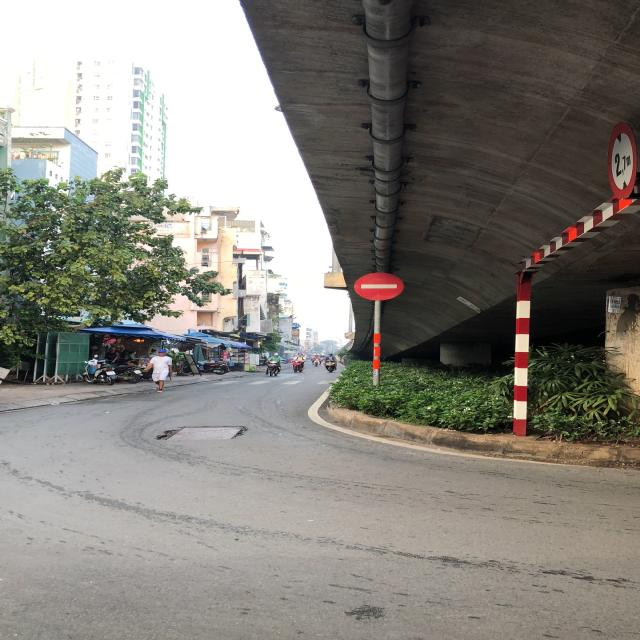Bien bao cam di nguoc chieu: (352, 268, 407, 304)
